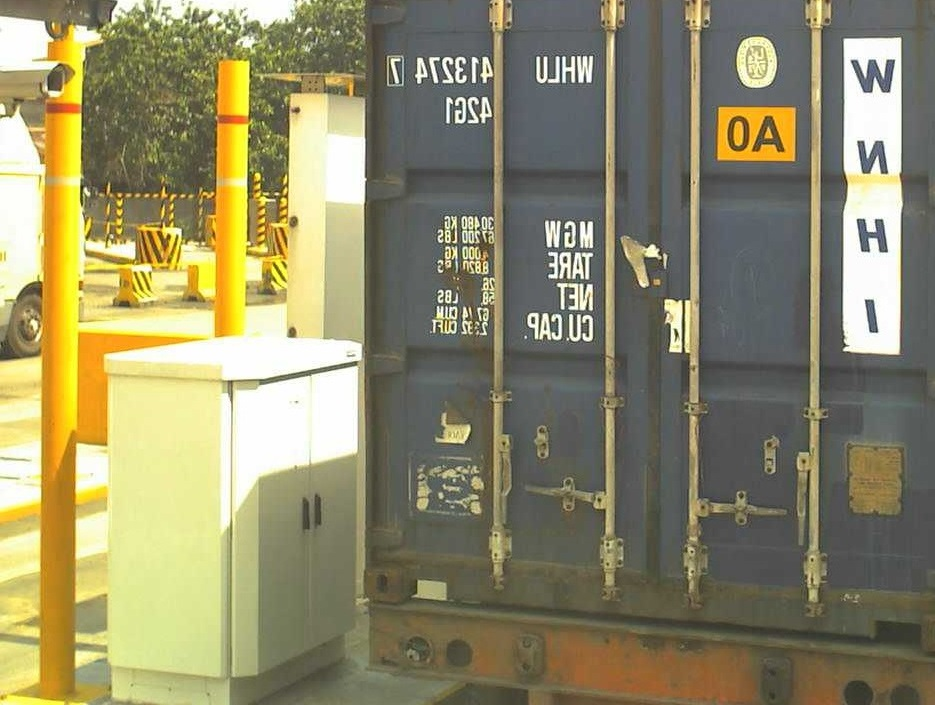container_door: (366, 2, 931, 650)
